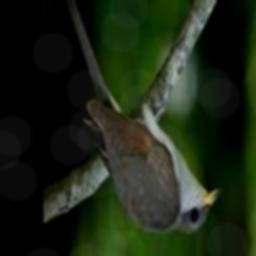Cuckoo: (60, 0, 220, 236)
